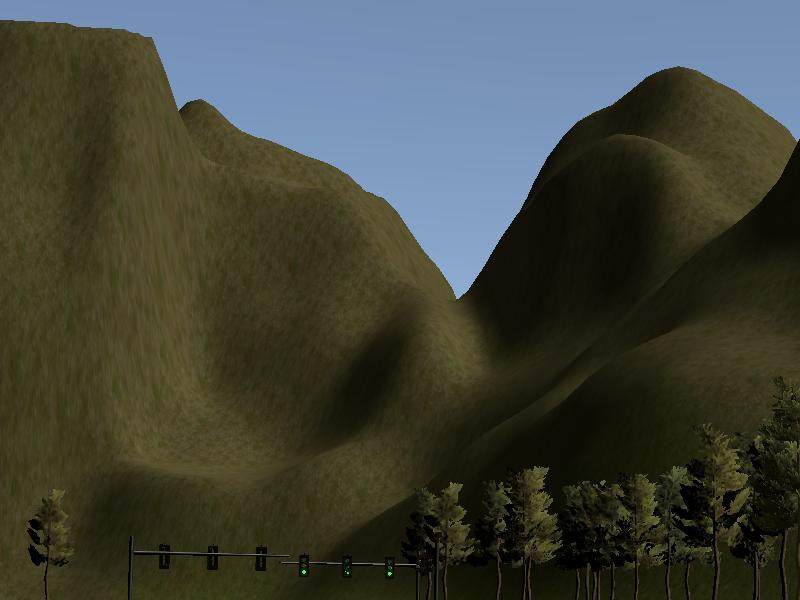Green: (385, 557, 395, 578)
